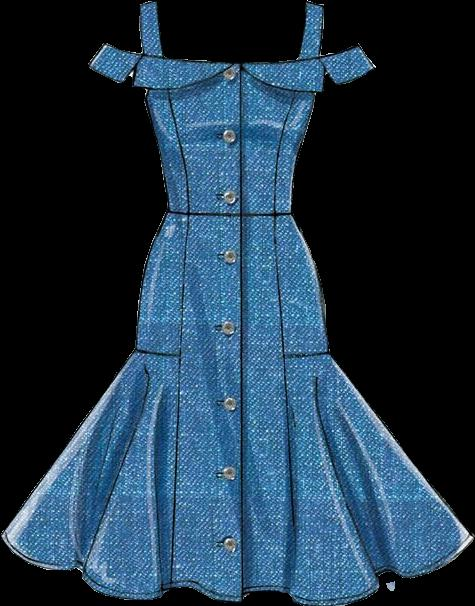Bodice: (88, 1, 375, 217)
Hemline: (1, 530, 474, 605)
Neckline: (151, 0, 313, 68)
Skirt: (1, 212, 473, 605)
Waistline: (270, 216, 304, 601), (85, 58, 377, 96), (169, 214, 196, 585), (163, 205, 294, 223), (282, 345, 332, 363), (130, 345, 181, 361)
